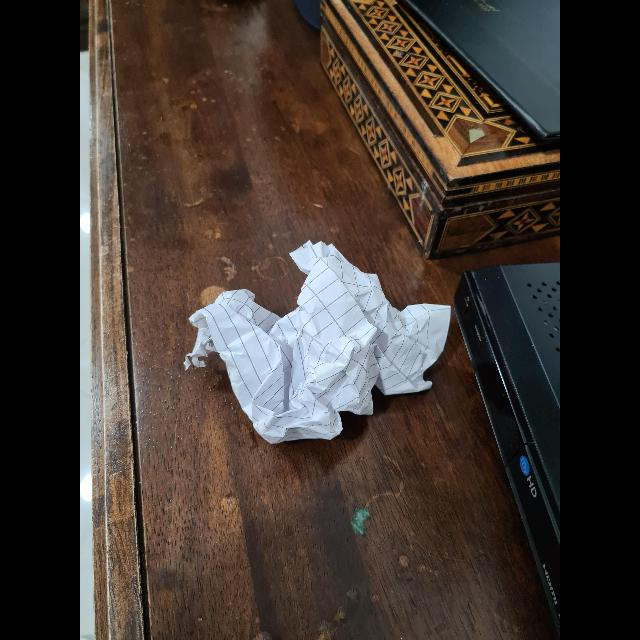scrap_paper: (185, 235, 452, 443)
